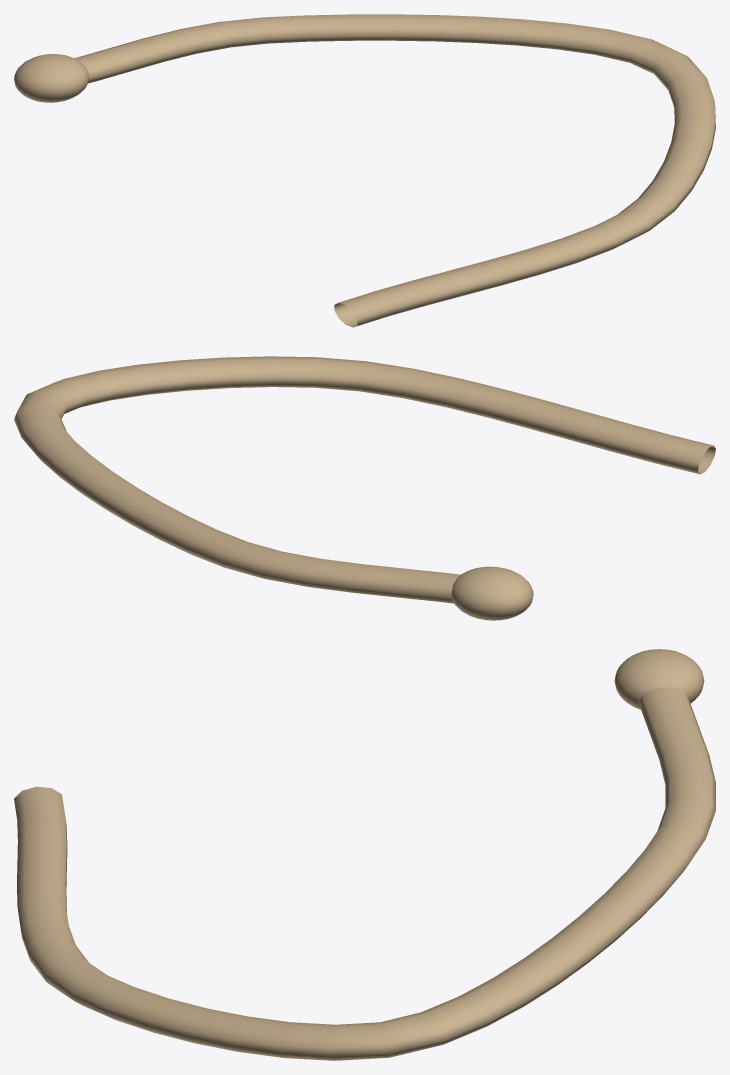
File: left_rib_7.glb
The picture shows the model from 3 angles, top to bottom: view 1: azimuth 30°, elevation 25°; view 2: azimuth 150°, elevation 25°; view 3: azimuth 270°, elevation 25°; orthographic projection. The views are drawn at different scales.
Parts seen in each view (by area): view 1: left_rib_7:costal-body, left_rib_7:head; view 2: left_rib_7:costal-body, left_rib_7:head; view 3: left_rib_7:costal-body, left_rib_7:head.
Boxes of the visible parts, box(x1,y1,x2,y2) form: left_rib_7:costal-body: box(74, 14, 715, 327); left_rib_7:head: box(14, 54, 89, 102); left_rib_7:costal-body: box(14, 356, 715, 603); left_rib_7:head: box(451, 566, 533, 620); left_rib_7:costal-body: box(14, 687, 715, 1060); left_rib_7:head: box(614, 649, 704, 709).
Size of the model in its own units: 1.02 by 0.1728 by 0.864.
